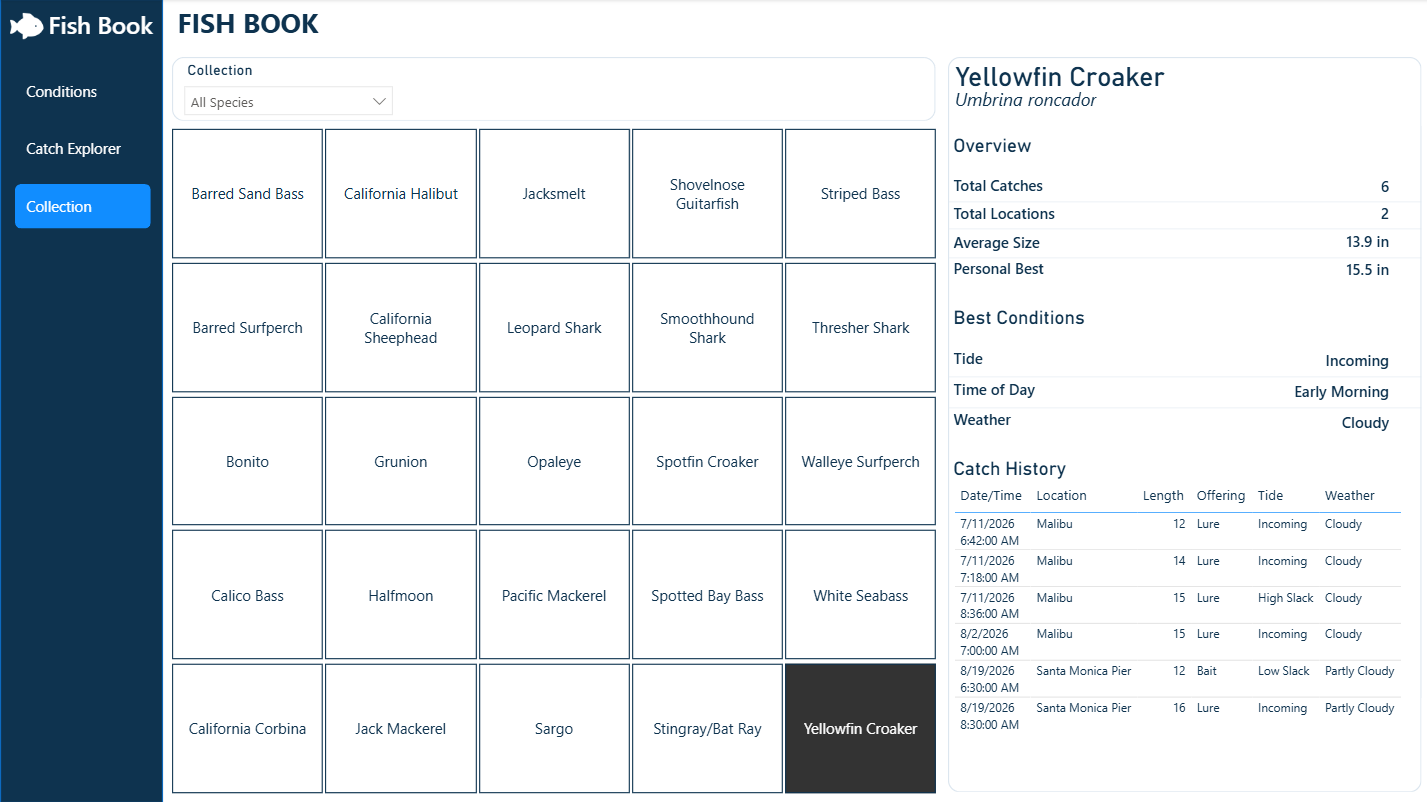

The page's visual inventory and layout, read from the dashboard file:
{"tool":"powerbi","page":{"name":"Collection","canvas":[1280,720],"ordinal":2},"visuals":[{"type":"cardVisual","fields":{"Data":["measures_.Fish Book Header Common Name"]},"box":[849.1,44.8,424.1,46.7],"z":0,"group":"g1"},{"type":"shape","box":[153.7,51.6,683.8,57.4],"z":0},{"type":"shape","box":[849.1,51.6,424.1,658.5],"z":1000},{"type":"cardVisual","fields":{"Data":["measures_.Fish Book Header Scientific Name"]},"box":[849.1,71.1,424.1,36],"z":1000,"group":"g1"},{"type":"shape","box":[0,0,146,720],"z":2000},{"type":"textbox","box":[38.5,4,110.5,42.5],"z":3000},{"type":"textbox","box":[154.4,4.4,254.4,32.2],"z":4000},{"type":"actionButton","box":[13.2,62.5,121.6,39.9],"z":5000},{"type":"actionButton","box":[13.2,114,121.6,39.9],"z":6000},{"type":"actionButton","box":[13.2,165.6,121.6,39.9],"z":7000},{"type":"image","box":[0,10,47.5,29.5],"z":8000},{"type":"cardVisual","title":"Overview","fields":{"Data":["measures_.Fish Book Total Catches Display","measures_.Fish Book Total Locations Display","measures_.Fish Book Average Length Display","measures_.Fish Book Largest Recorded Display"]},"box":[849.1,116.7,424.1,152.7],"z":9000},{"type":"cardVisual","title":"Best Conditions","fields":{"Data":["measures_.Fish Book Best Tide Display","measures_.Fish Book Best Time Display","measures_.Fish Book Best Weather Display"]},"box":[849.1,270.4,424.1,135.2],"z":10000},{"type":"slicer","fields":{"Values":["Species.Common Name"]},"box":[128.4,108.9,734.3,608.9],"z":11000},{"type":"tableEx","title":"Catch History","fields":{"Values":["Catch.CatchDateTime","Location.LocationName","Catch.LengthIn","Catch.OfferingType","Catch.Catch TideStage","Catch.Catch Weather"]},"box":[849.1,405.6,424.1,304.4],"z":12000},{"type":"slicer","fields":{"Values":["Catch Status Selector.Status"]},"box":[154.7,50.6,207.2,69.1],"z":13000},{"type":"group","id":"g1","title":"Group 1","box":[849.1,44.8,424.1,62.2],"z":14000},{"type":"shape","box":[849.1,351.1,424.1,30.2],"z":15000},{"type":"shape","box":[849.1,322.9,424.1,30.2],"z":16000},{"type":"shape","box":[849.1,216.9,424.1,30.2],"z":17000},{"type":"shape","box":[849.1,190.6,424.1,30.2],"z":18000},{"type":"shape","box":[849.1,166.3,424.1,30.2],"z":19000},{"type":"textbox","box":[849.2,153.4,168,31.6],"z":20000},{"type":"textbox","box":[849.2,178.2,168,31.6],"z":21000},{"type":"textbox","box":[849.2,204.1,168,31.6],"z":22000},{"type":"textbox","box":[849.1,227.6,168.3,32.1],"z":23000},{"type":"textbox","box":[849.2,307.7,168,31.6],"z":24000},{"type":"textbox","box":[849.2,335.9,168,31.6],"z":25000},{"type":"textbox","box":[849.2,363,168,31.6],"z":26000}]}

Visuals, with their boxes on the page's 1280x720 design canvas (x1, y1, x2, y2). These are canvas units, not pixel positions in the 1427x802 screenshot, which may show the page scaled, cropped or inside an application window:
cardVisual - measures_.Fish Book Header Common Name: 849 45 1273 92
shape: 154 52 838 109
shape: 849 52 1273 710
cardVisual - measures_.Fish Book Header Scientific Name: 849 71 1273 107
shape: 0 0 146 720
textbox: 38 4 149 46
textbox: 154 4 409 37
actionButton: 13 62 135 102
actionButton: 13 114 135 154
actionButton: 13 166 135 206
image: 0 10 48 40
"Overview" cardVisual: 849 117 1273 269
"Best Conditions" cardVisual: 849 270 1273 406
slicer - Species.Common Name: 128 109 863 718
"Catch History" tableEx: 849 406 1273 710
slicer - Catch Status Selector.Status: 155 51 362 120
"Group 1" group: 849 45 1273 107
shape: 849 351 1273 381
shape: 849 323 1273 353
shape: 849 217 1273 247
shape: 849 191 1273 221
shape: 849 166 1273 196
textbox: 849 153 1017 185
textbox: 849 178 1017 210
textbox: 849 204 1017 236
textbox: 849 228 1017 260
textbox: 849 308 1017 339
textbox: 849 336 1017 368
textbox: 849 363 1017 395
